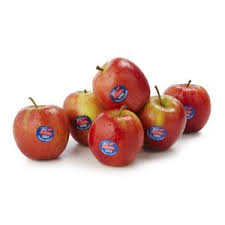apple: (9, 103, 70, 167), (88, 109, 147, 169), (93, 56, 151, 117), (159, 77, 215, 137), (141, 91, 189, 158), (61, 88, 112, 148)
